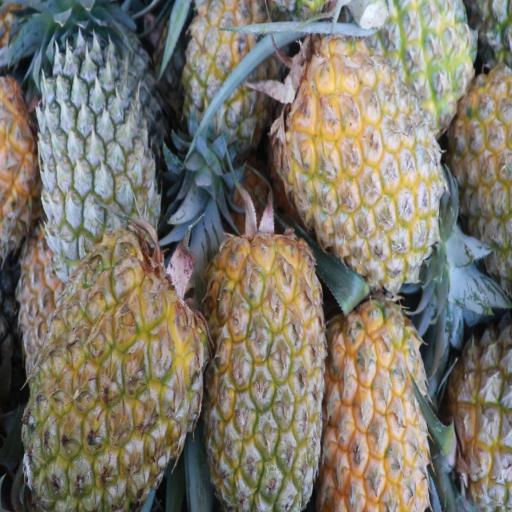------------------------------: (180, 0, 274, 149)
Pineapple - v8 v1: (33, 220, 210, 512), (288, 29, 442, 280), (206, 234, 322, 502), (324, 294, 426, 512), (382, 0, 472, 116)
